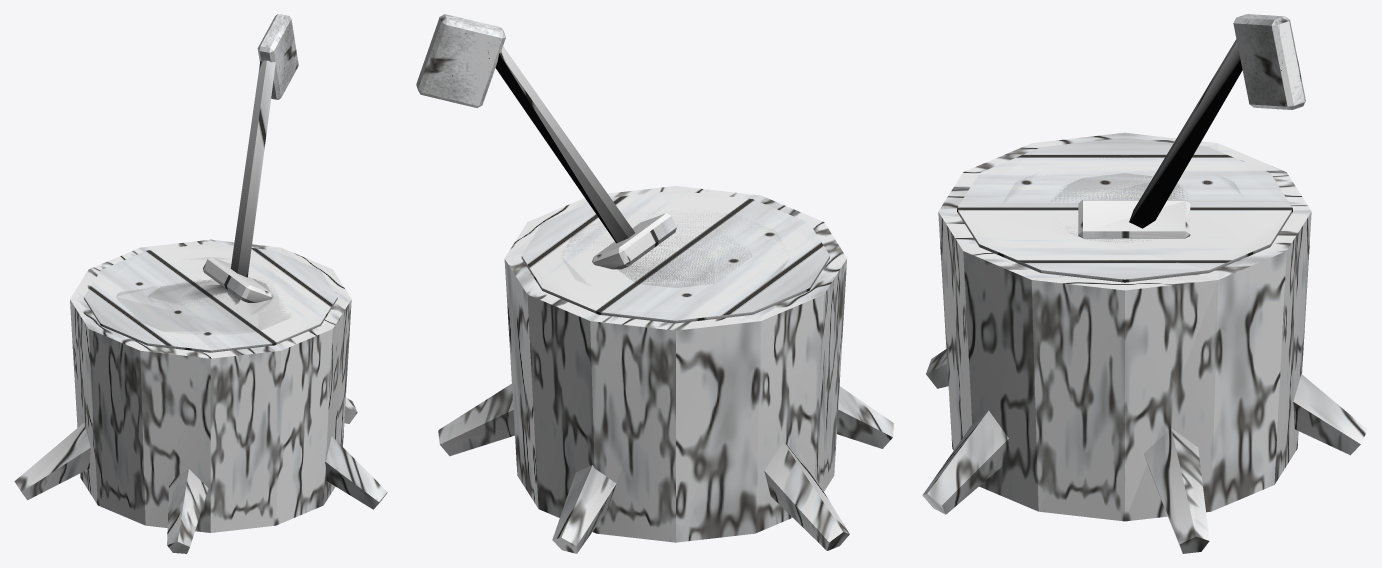
The picture shows the model from 3 angles, left to right: view 1: azimuth 30°, elevation 25°; view 2: azimuth 150°, elevation 25°; view 3: azimuth 270°, elevation 25°; orthographic projection. The views are drawn at different scales.
Visible parts, largest first — view 1: stump_M_bark, stump_M_wood, stump_M_wood_dark, stump_M_iron; view 2: stump_M_bark, stump_M_wood, stump_M_iron, stump_M_wood_dark; view 3: stump_M_bark, stump_M_wood, stump_M_iron, stump_M_wood_dark.
Part boxes in pixels (x1,y1,x2,y2): stump_M_bark: (14,239,387,553); stump_M_wood: (84,60,337,352); stump_M_wood_dark: (116,256,291,335); stump_M_iron: (257,14,298,99); stump_M_bark: (438,186,893,553); stump_M_wood: (495,46,829,323); stump_M_iron: (416,14,505,107); stump_M_wood_dark: (560,209,789,287); stump_M_bark: (922,132,1367,553); stump_M_wood: (957,39,1292,282); stump_M_iron: (1233,14,1305,109); stump_M_wood_dark: (1002,155,1242,261).
Size of the model in its own units: 1.1 by 1.22 by 0.9543.
4 materials, 4 textured.
